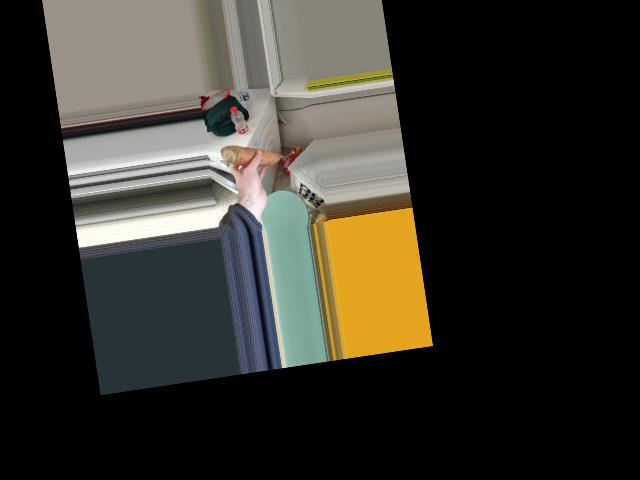sweet_potato: (220, 141, 286, 169)
